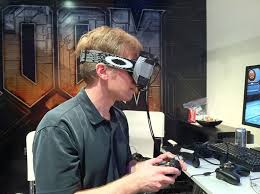oculus: (78, 47, 162, 90)
